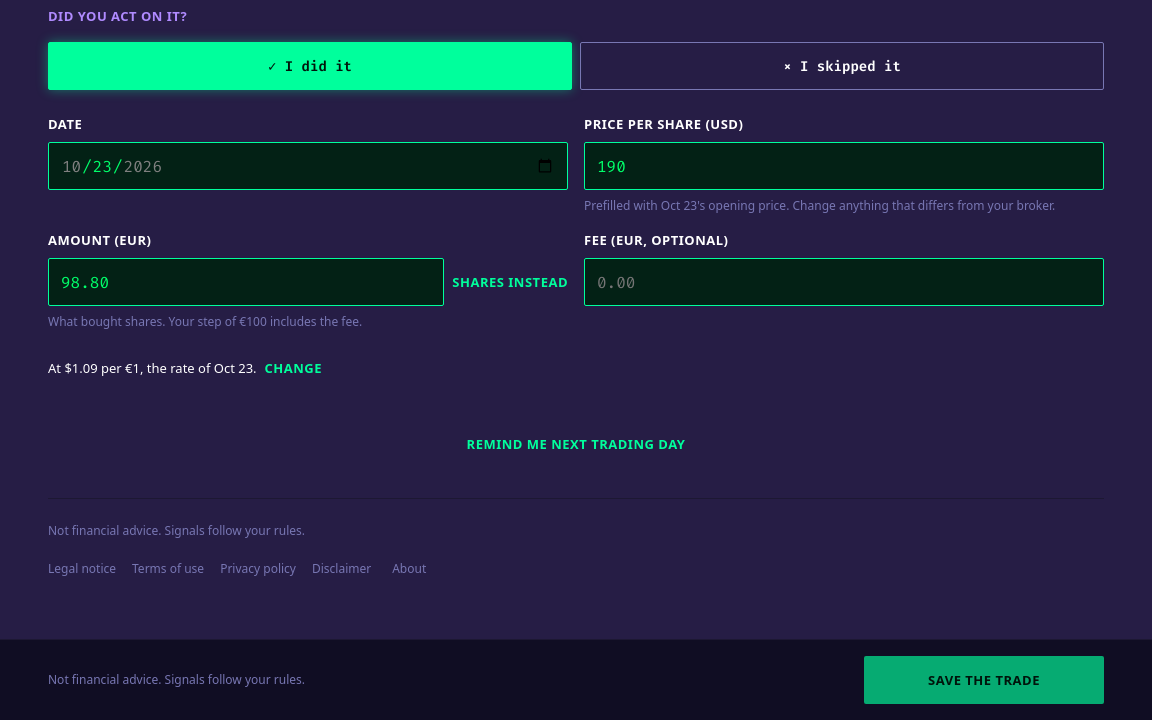
Test: SignalPage › snoozes until the day the server gives
(page scrolled)
Click the button "Remind me next trading day" at (576, 444), box [467,422,686,466]
(page scrolled)
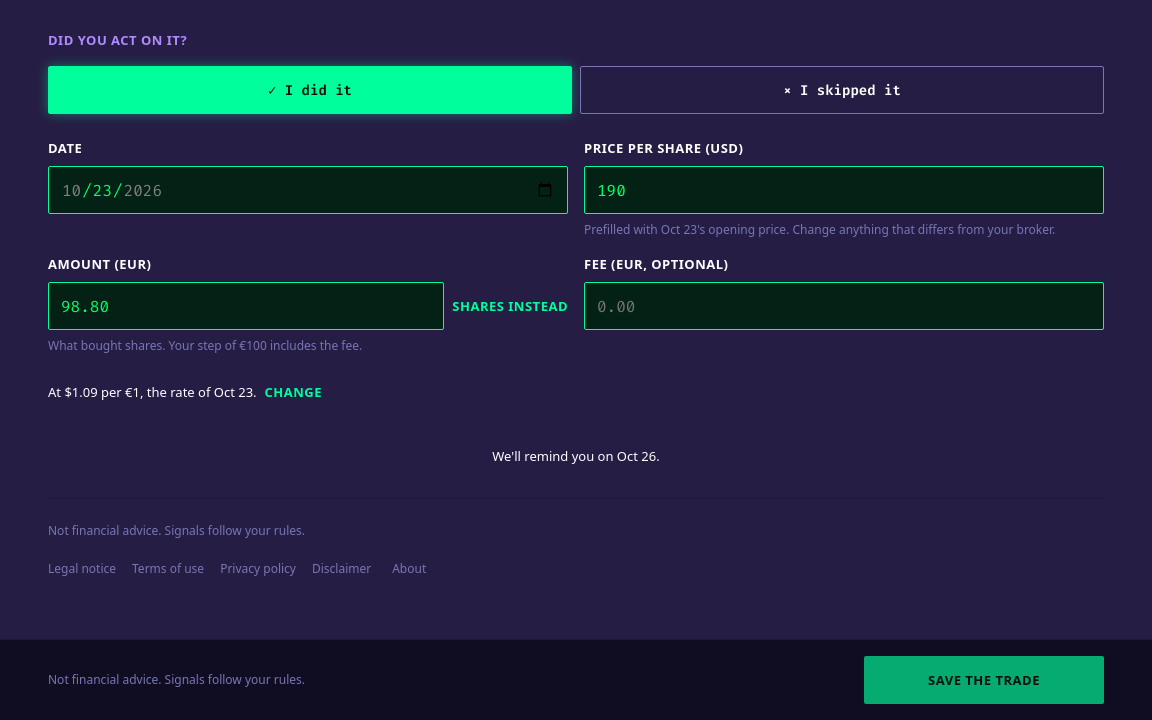
Now the text "We'll remind you on Oct 26." is shown, box [492,446,660,466]
